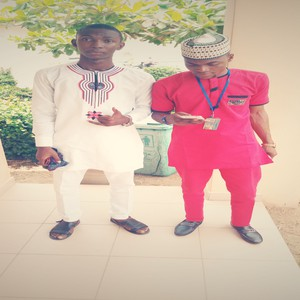Fulokoja_male_student: (34, 24, 154, 235), (155, 52, 271, 245)
